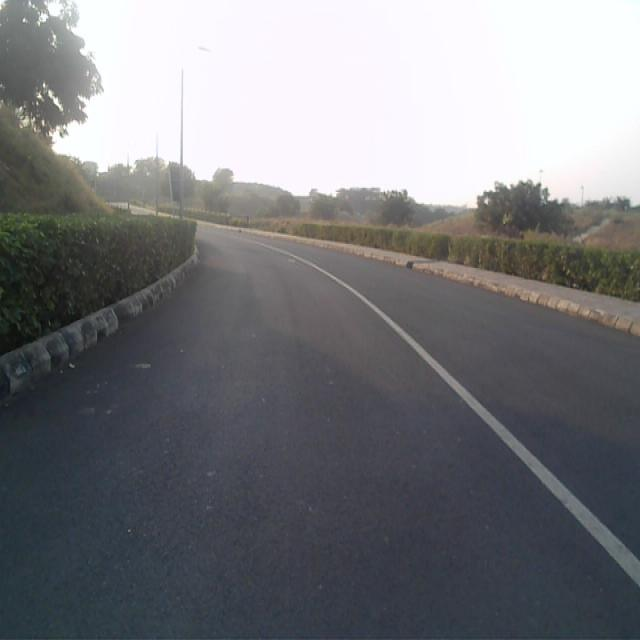lane: (1, 236, 640, 640)
